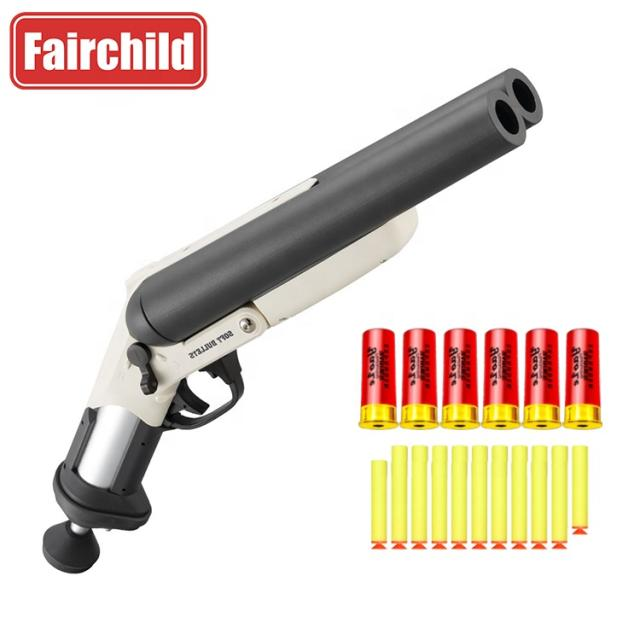ShotGun: (43, 68, 544, 575)
